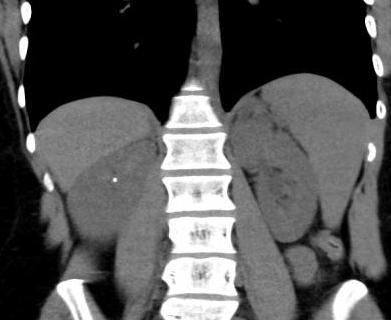Tas_Var: (111, 179, 118, 183), (112, 177, 119, 180)
